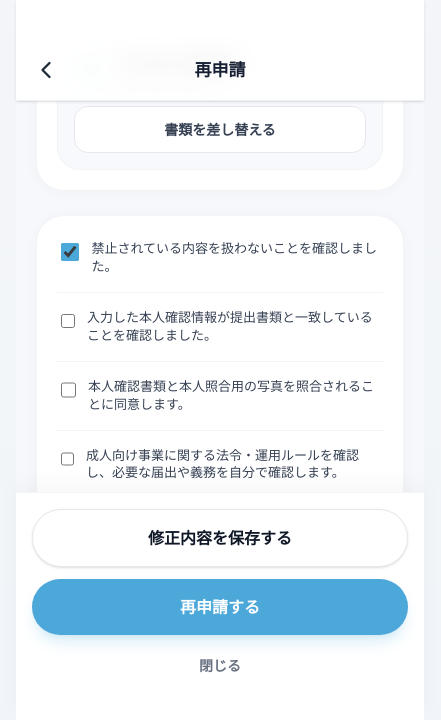
Test: CreatorRegistrationPanel › refreshes the surface after a registration state conflict closes resubmit
(page scrolled)
Click the button "再申請する" at x=220, y=607, box [32,579,408,635]
(page scrolled)
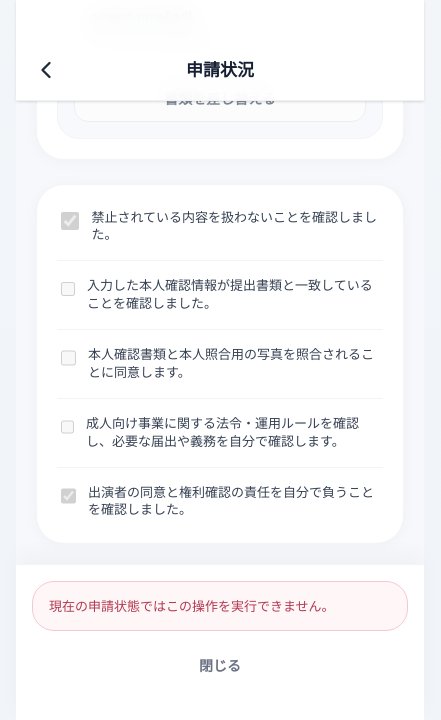
Expected: the button "再申請する" is gone
Expected: the message reads "現在の申請状態ではこの操作を実行できません。", [49,597,335,615]
